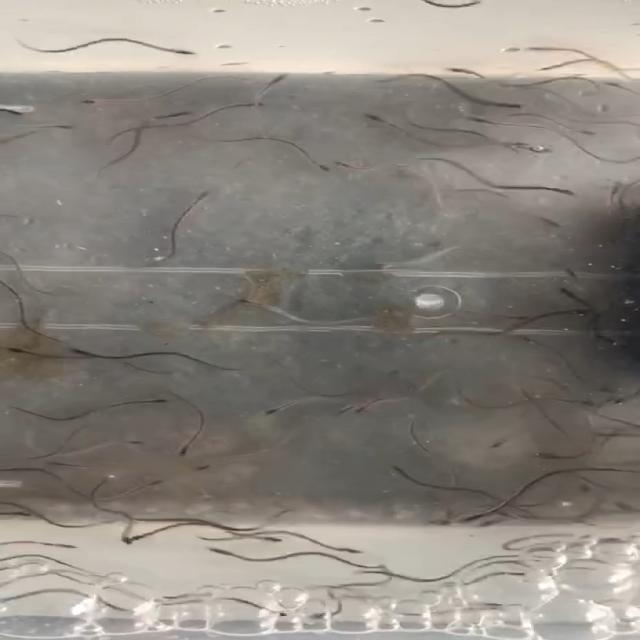active_glass_eel: (263, 396, 310, 416), (196, 454, 245, 472), (151, 107, 206, 122), (202, 545, 250, 561), (264, 65, 292, 92), (188, 185, 220, 208), (65, 344, 110, 360), (443, 512, 494, 526), (486, 98, 532, 113), (532, 215, 572, 231), (535, 445, 577, 460), (227, 296, 271, 310), (322, 156, 360, 172), (160, 44, 203, 58), (558, 285, 588, 305), (330, 544, 376, 557), (74, 94, 118, 107), (564, 264, 590, 286), (439, 68, 481, 81), (389, 466, 423, 482), (496, 40, 534, 54), (136, 392, 174, 406), (304, 159, 337, 175), (229, 99, 276, 110), (174, 437, 197, 459), (539, 187, 581, 199), (498, 310, 540, 322), (8, 342, 44, 356), (44, 540, 86, 552), (42, 120, 83, 132), (358, 113, 393, 127), (103, 438, 157, 447), (458, 112, 494, 125), (330, 400, 360, 415), (117, 530, 142, 548), (0, 507, 37, 519), (142, 472, 168, 489), (481, 438, 517, 450), (561, 398, 600, 409), (566, 124, 598, 137), (39, 458, 74, 469), (526, 62, 564, 71), (476, 518, 510, 528), (601, 80, 633, 90), (262, 532, 290, 543), (0, 106, 24, 118), (145, 528, 160, 544)
